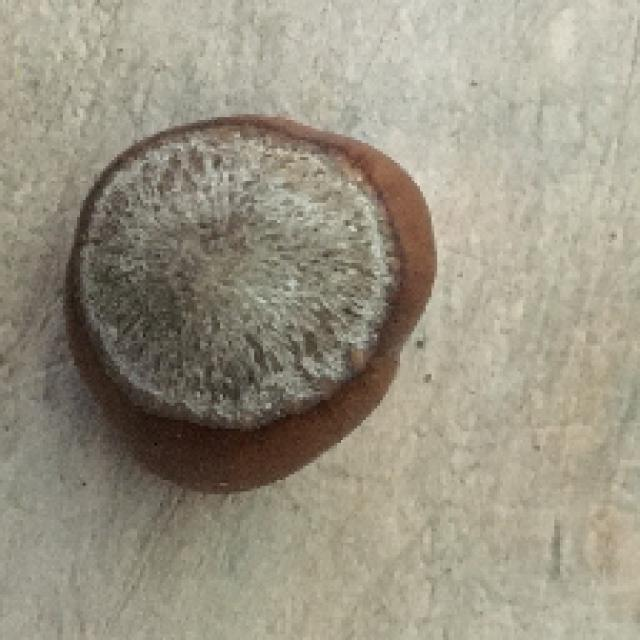qualityHazelnut: (60, 114, 437, 496)
